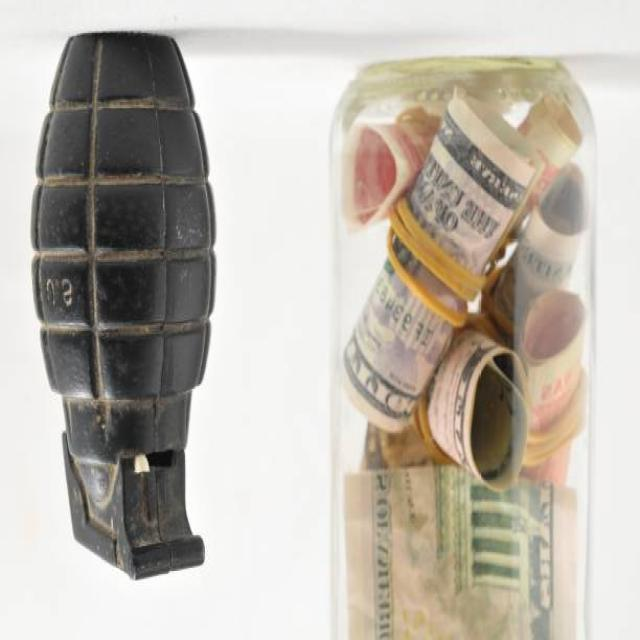grenade: (23, 27, 227, 584)
